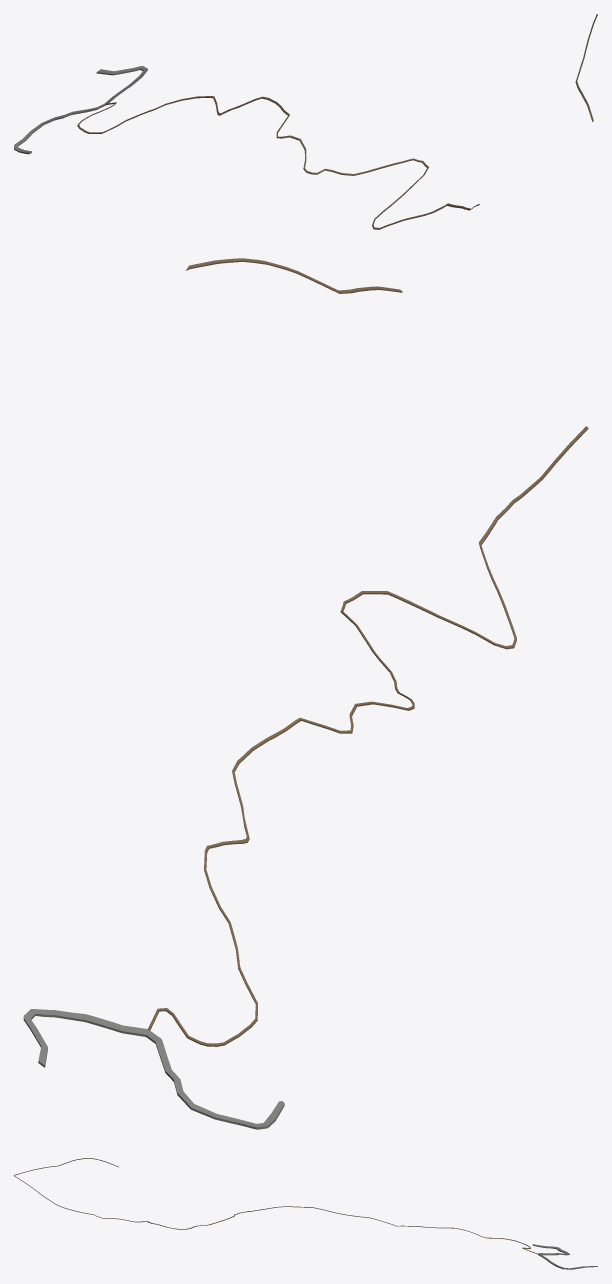
Rendered from 16-54701-29735.12e60deb.glb.
3 views of the same model, one above another, from view 1: azimuth 30°, elevation 25°; view 2: azimuth 150°, elevation 25°; view 3: azimuth 270°, elevation 25° (orthographic). The views are drawn at different scales.
Size of the model in its own units: 298 by 230 by 583.
